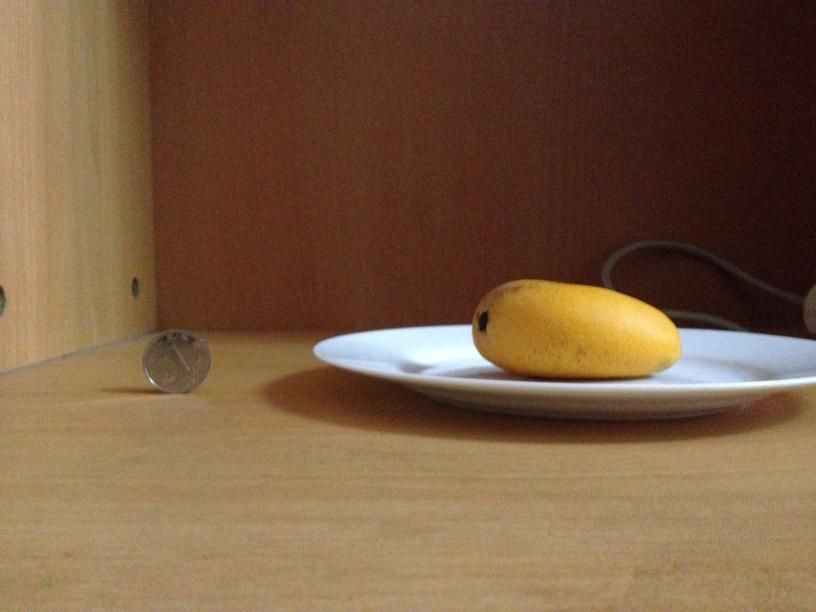coin: (140, 333, 211, 394)
mango: (467, 281, 681, 378)
